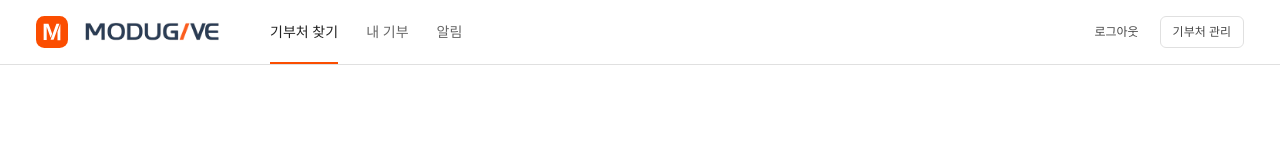
Test: DonorHeader › shows a recoverable message when donor logout rejects
Step 1. Click the button "로그아웃" → (1116, 32), box [1081,16,1152,48]
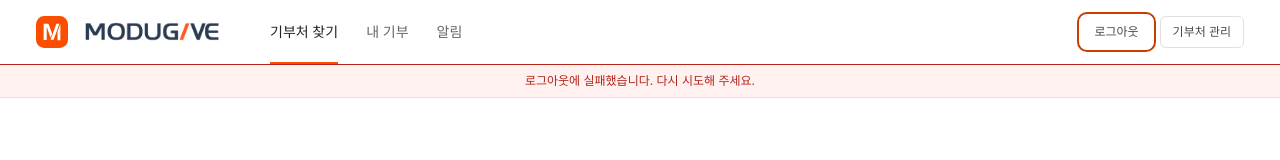
Expected: the message reads "로그아웃에 실패했습니다. 다시 시도해 주세요.", [525,73,755,88]
